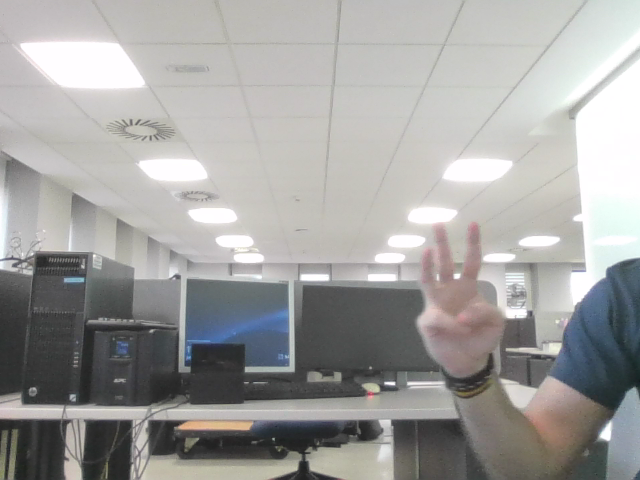3Dedos: (428, 233, 493, 339)
